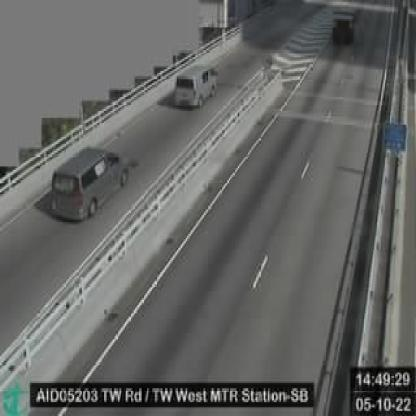Car: (51, 145, 126, 222), (172, 64, 216, 108)
